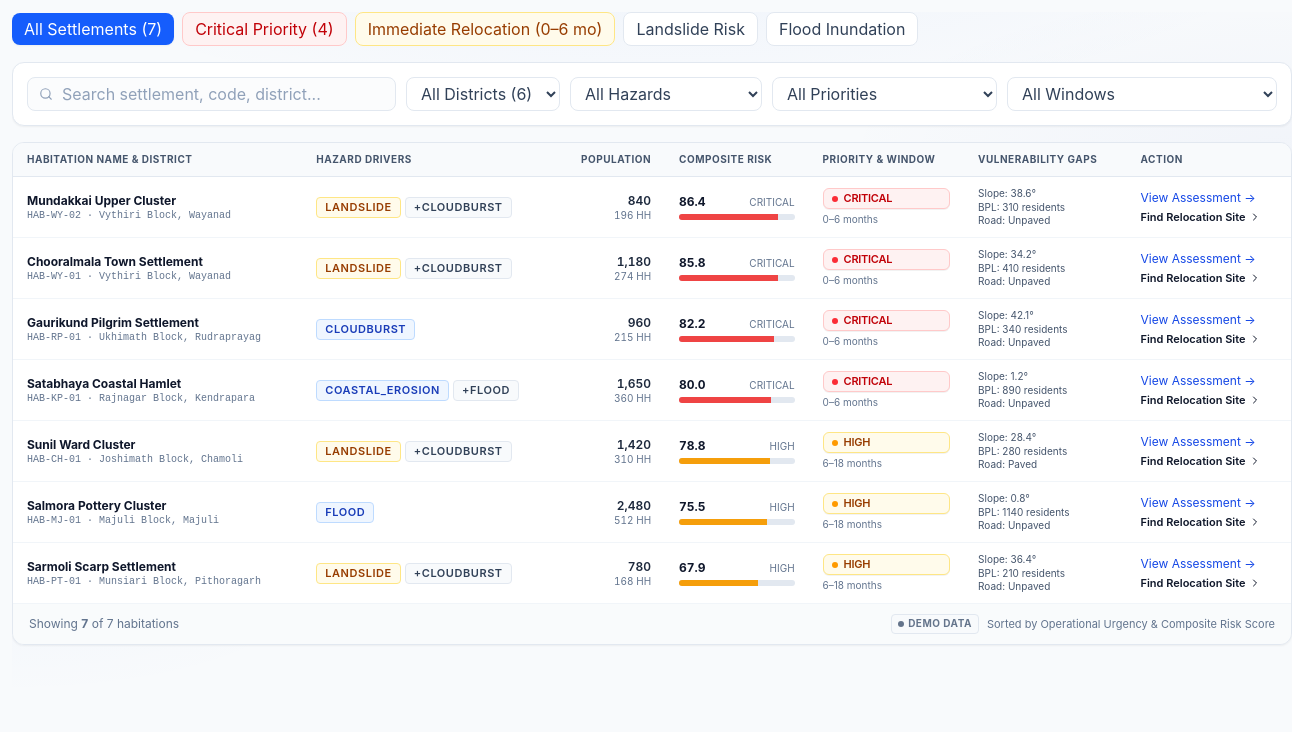
Test: Habitation Prioritization Surface (Phase 5B) › filters habitations table by search query and district
Type "Joshimath" into the field named "Filter habitations by settlement name or code" at (212, 94), box [27,77,396,111]
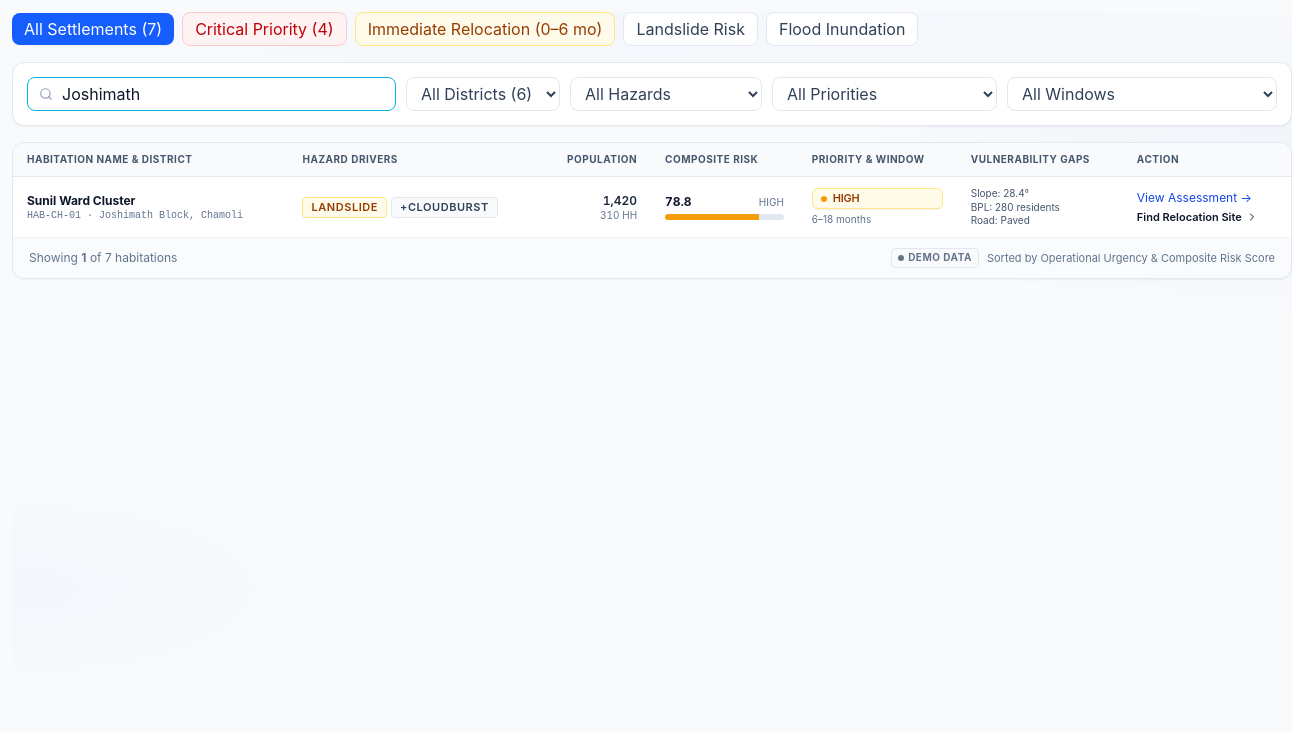
Expected: the text "Sunil Ward Cluster" is shown, [27,193,136,208]
Expected: the button "Chooralmala Town Settlement" is gone
